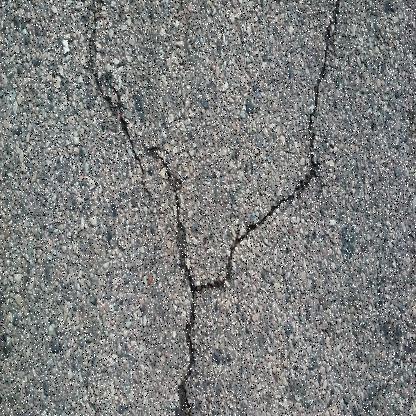Cracks: (195, 0, 341, 301), (149, 140, 200, 416), (84, 0, 146, 191)
